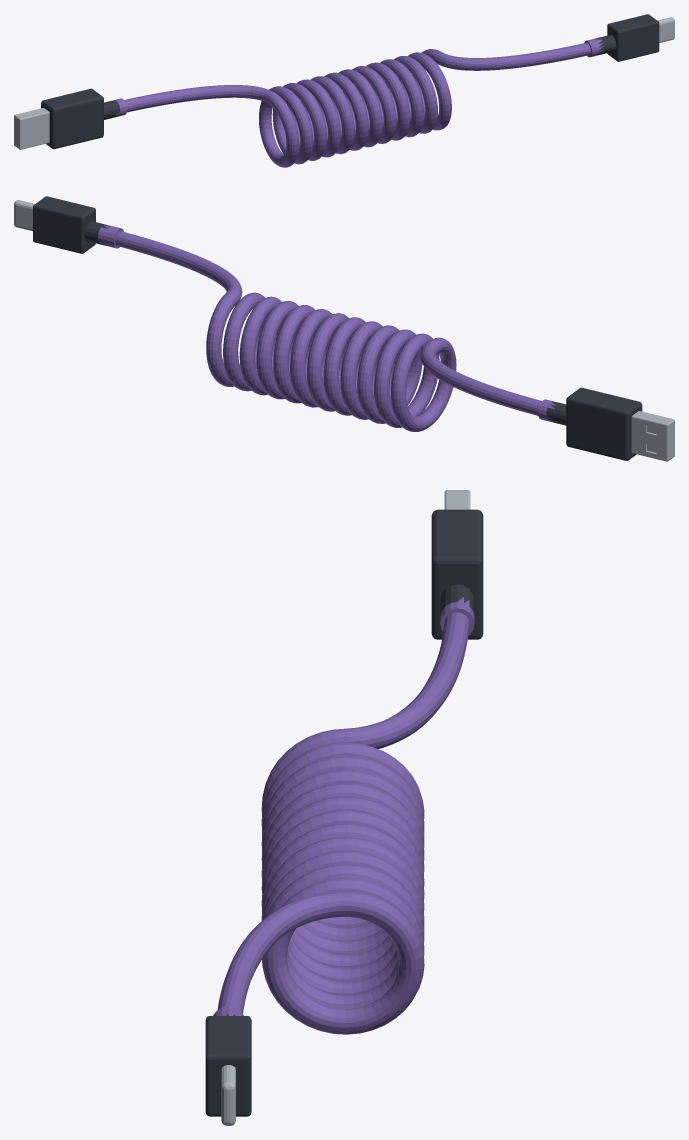
3 views of the same model, one above another, from view 1: azimuth 30°, elevation 25°; view 2: azimuth 150°, elevation 25°; view 3: azimuth 270°, elevation 25° (orthographic). The views are drawn at different scales.
Parts seen in each view (by area): view 1: geometry_0; view 2: geometry_0; view 3: geometry_0.
Part boxes in pixels (x1=…): geometry_0: x1=14, y1=14, x2=674, y2=167; geometry_0: x1=14, y1=196, x2=674, y2=461; geometry_0: x1=205, y1=490, x2=483, y2=1125.
Bounding box in the file's own units: 0.2422 × 0.0342 × 0.0485.
1 material, 1 textured.
